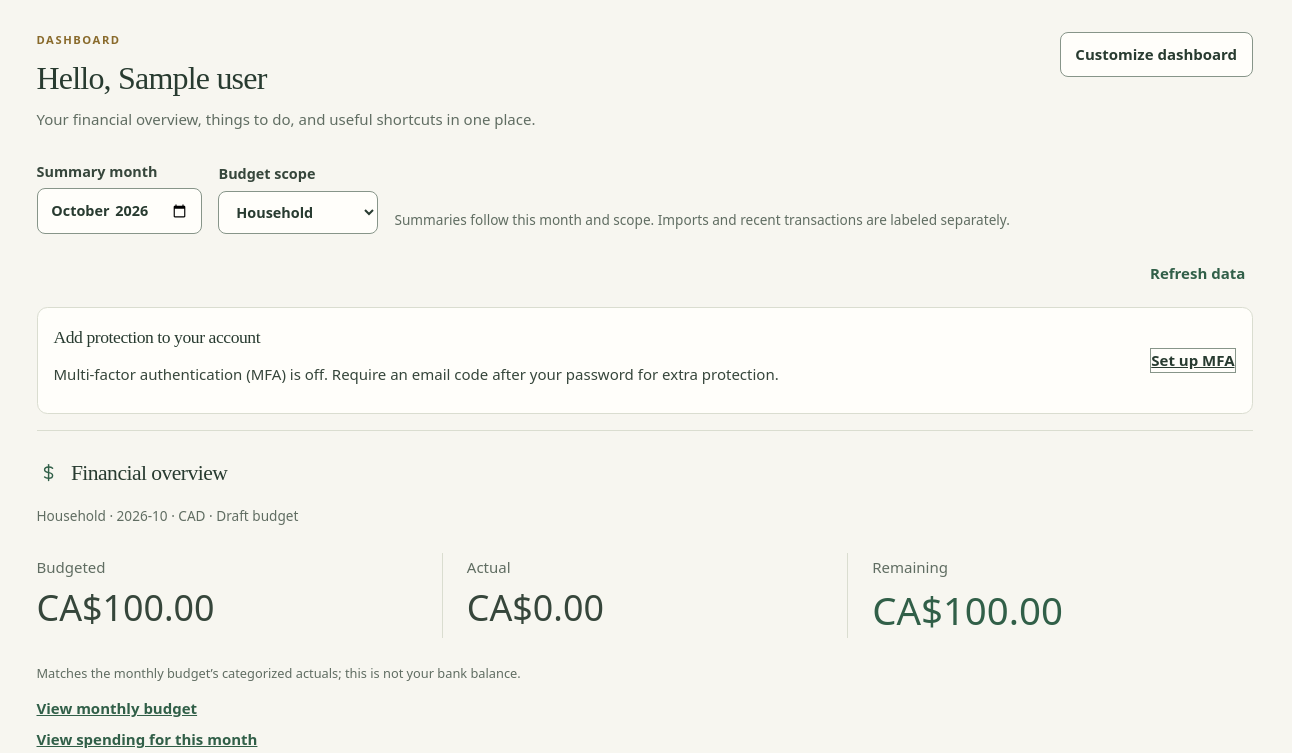
Test case: mixed dashboard › features the canonical overview without rewriting the saved layout
The width and height of the screenshot is (1292, 753).
Click the button "Customize dashboard".
click(1156, 55)  # box x1=1060 y1=32 x2=1252 y2=77
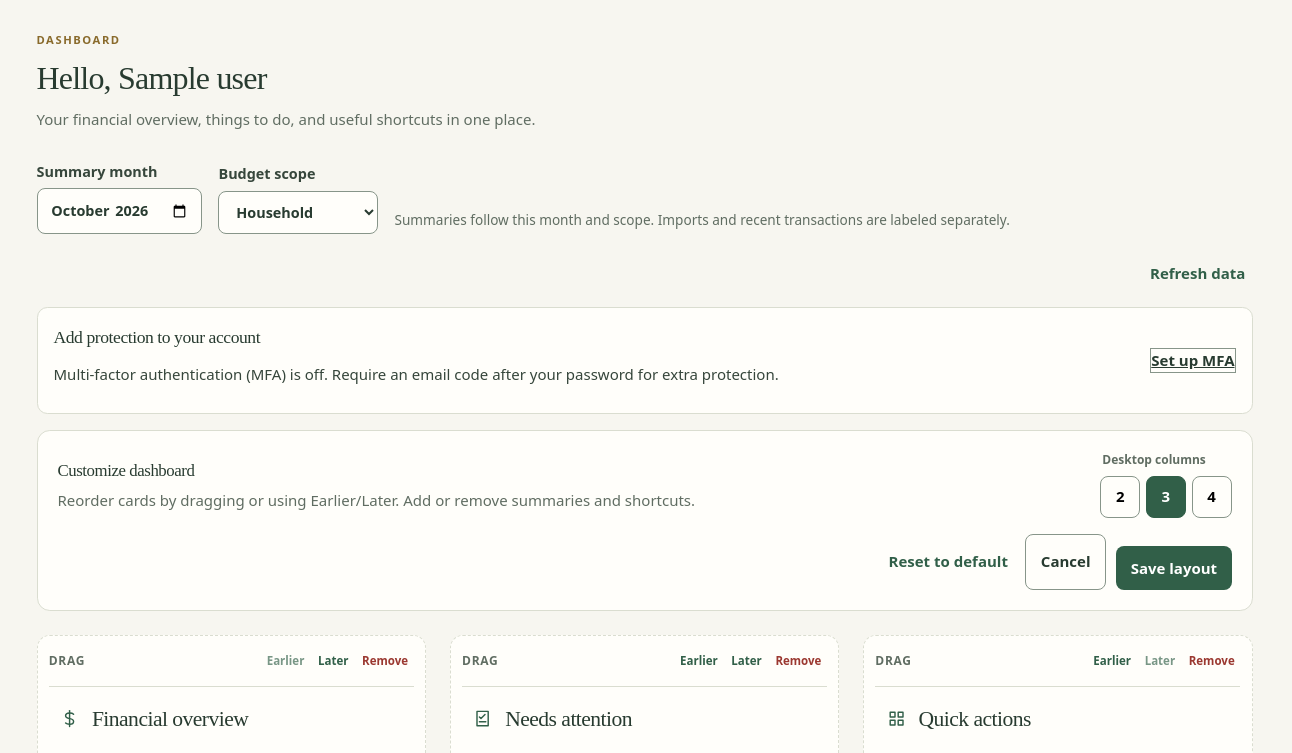
Click the button "Cancel".
click(1066, 562)  # box x1=1026 y1=534 x2=1106 y2=590
(page scrolled)
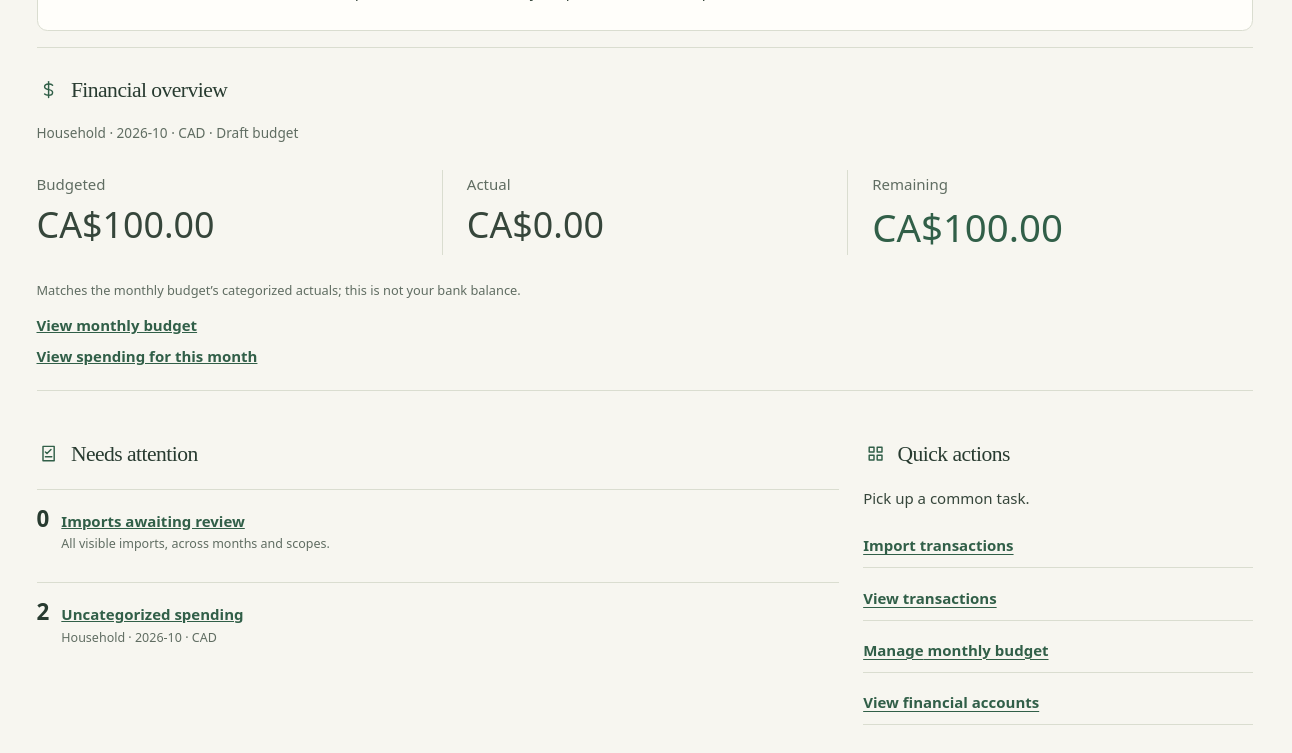
Expected: the element with class "dashboard-overview-layout" is shown
